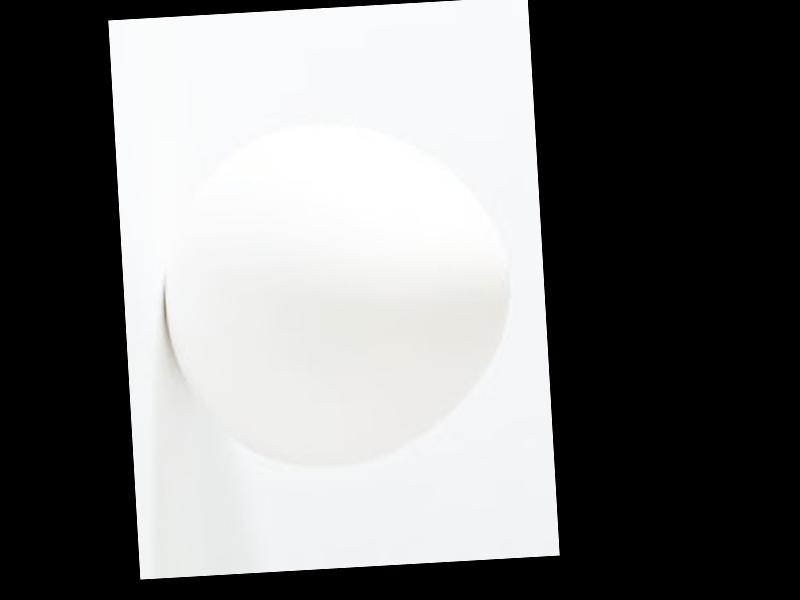Eggs: (155, 114, 521, 472)
